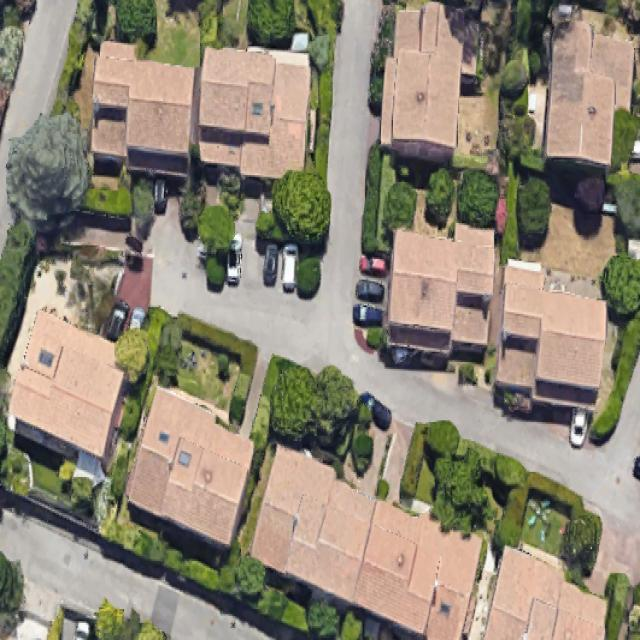maison: (112, 389, 273, 546), (234, 446, 394, 603), (0, 309, 142, 466), (350, 500, 483, 640), (380, 216, 500, 361), (493, 268, 607, 409), (195, 48, 311, 180), (86, 41, 196, 173), (543, 17, 634, 168), (380, 1, 462, 156), (485, 547, 606, 640), (410, 578, 411, 579)
